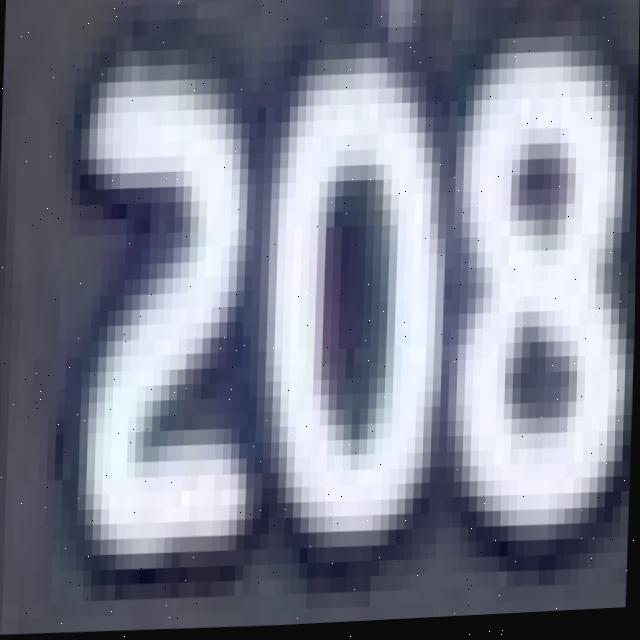character: (51, 31, 272, 595), (434, 0, 640, 577), (253, 27, 458, 576)
